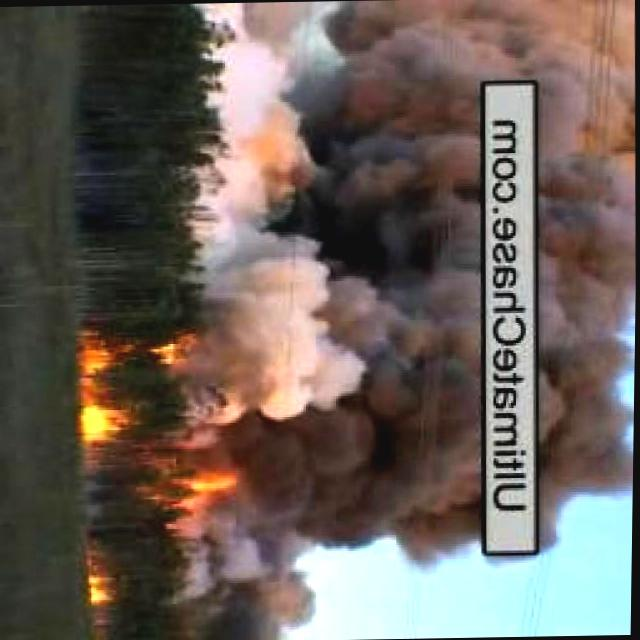Fire: (77, 314, 200, 444), (170, 470, 258, 495), (88, 567, 120, 606)
Smoke: (151, 0, 485, 640), (535, 0, 640, 504)
